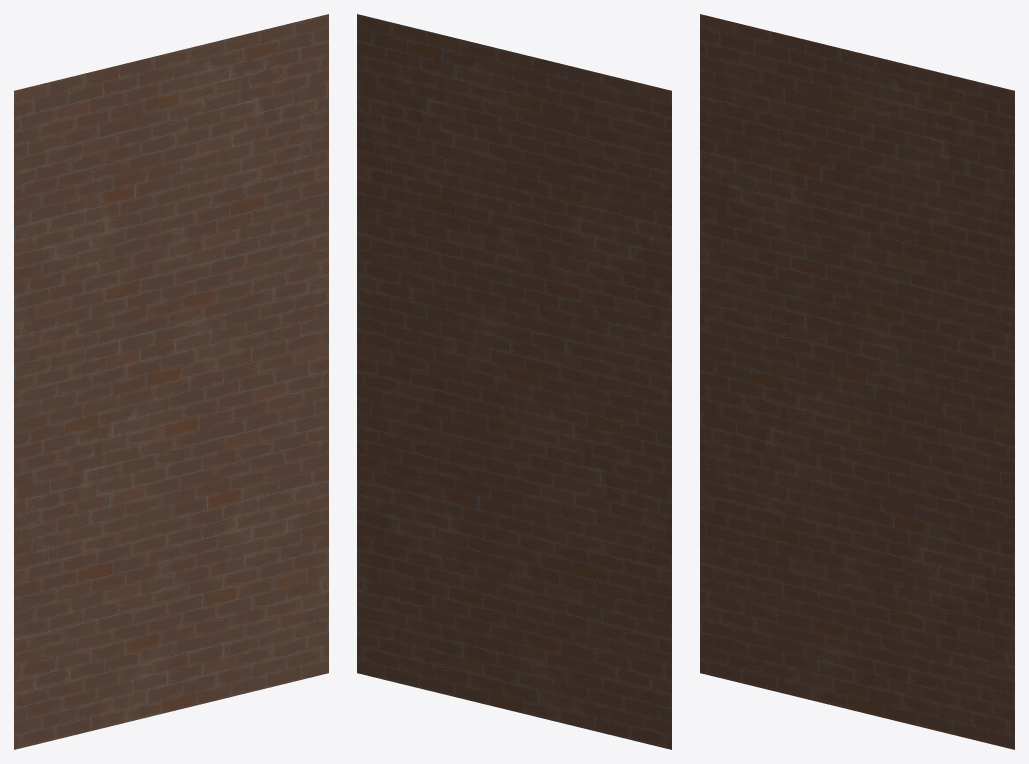
The model's file is q-downtown-brick-interiorwall-4.glb.
The picture shows the model from 3 angles, left to right: view 1: azimuth 30°, elevation 25°; view 2: azimuth 150°, elevation 25°; view 3: azimuth 330°, elevation 25°; orthographic projection.
Parts seen in each view (by area): view 1: Brick_InteriorWall_4; view 2: Brick_InteriorWall_4; view 3: Brick_InteriorWall_4.
Part boxes in pixels (<box>): Brick_InteriorWall_4: <box>14,14,328,749</box>; Brick_InteriorWall_4: <box>357,14,671,749</box>; Brick_InteriorWall_4: <box>700,14,1014,749</box>.
Bounding box in the file's own units: 2 × 4 × 0.
1 material, 1 textured.
